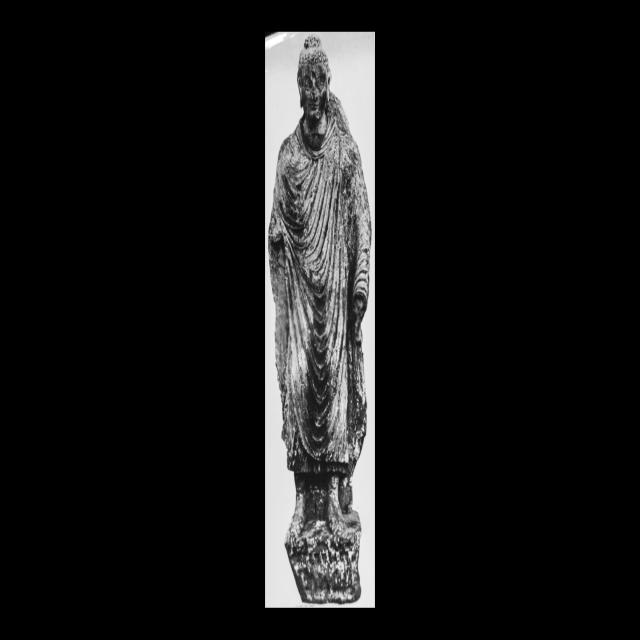buddha-standing: (269, 36, 371, 602)
